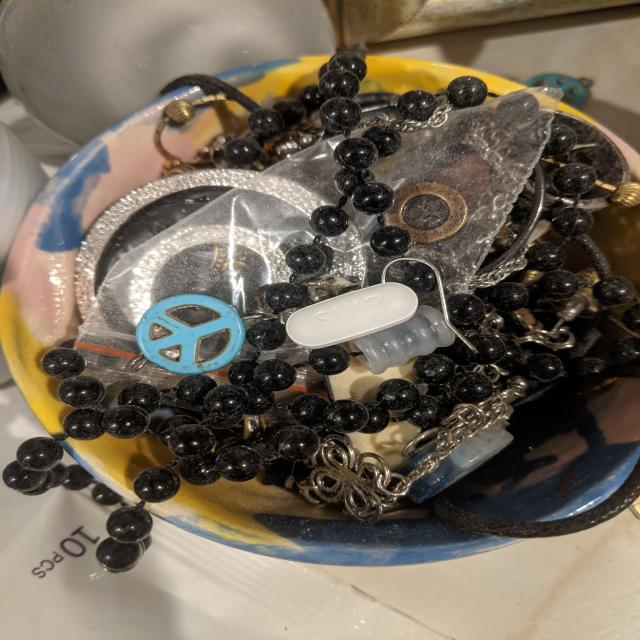non-organic waste: (284, 281, 420, 350)
